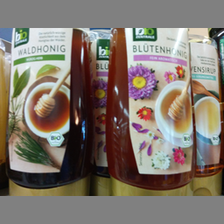honey: (110, 28, 195, 196), (10, 27, 91, 197), (188, 35, 222, 196)
